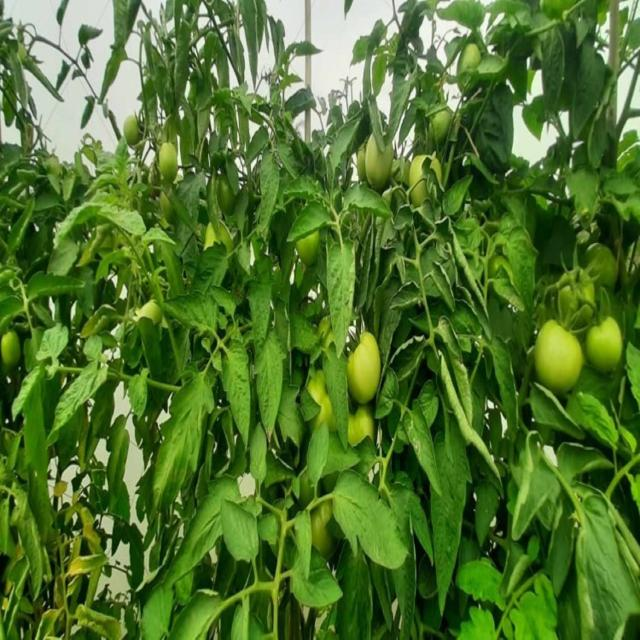tomato: (529, 325, 582, 385), (350, 329, 388, 400), (585, 316, 624, 370), (300, 497, 332, 555), (304, 378, 336, 429), (587, 243, 619, 291), (560, 266, 597, 306), (414, 153, 444, 202), (362, 131, 388, 186), (345, 411, 379, 445), (425, 101, 454, 140), (455, 39, 479, 82), (297, 233, 325, 267), (159, 139, 177, 187), (132, 300, 163, 326), (120, 111, 138, 148), (3, 329, 20, 366), (205, 221, 225, 252), (217, 178, 227, 210)
